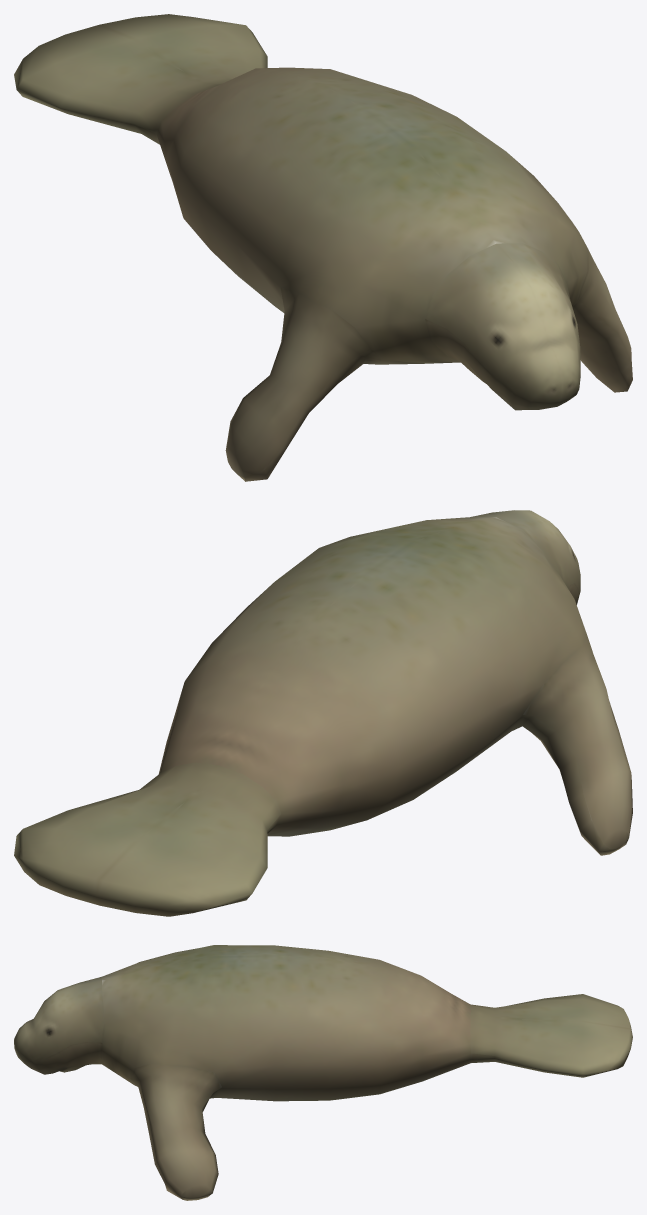
File: dugong.glb
3 views of the same model, one above another, from view 1: azimuth 30°, elevation 25°; view 2: azimuth 150°, elevation 25°; view 3: azimuth 270°, elevation 25° (orthographic). The views are drawn at different scales.
Parts seen in each view (by area): view 1: Manatee; view 2: Manatee; view 3: Manatee.
Boxes of the visible parts, box(x1,y1,x2,y2) form: Manatee: box(14, 14, 632, 481); Manatee: box(14, 510, 632, 916); Manatee: box(14, 945, 632, 1200).
Bounding box in the file's own units: 1.68 × 1.15 × 3.49.
1 material, 1 textured.
